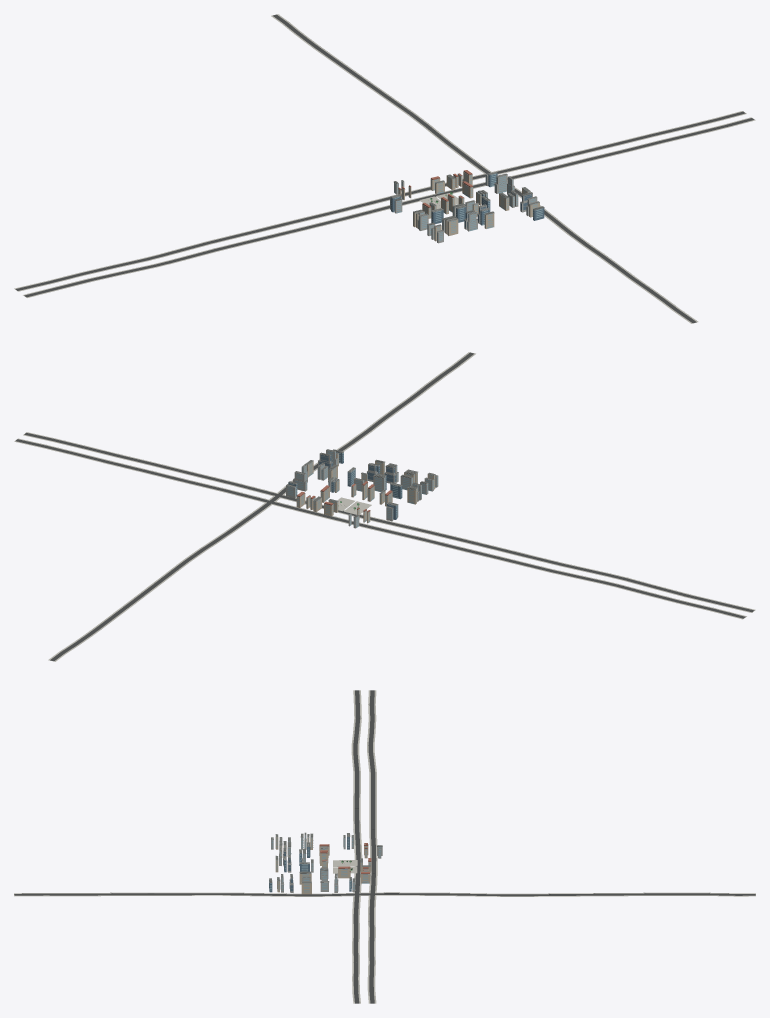
3 views of the same model, one above another, from view 1: azimuth 30°, elevation 25°; view 2: azimuth 150°, elevation 25°; view 3: azimuth 270°, elevation 25° (orthographic). The views are drawn at different scales.
Parts seen in each view (by area): view 1: road-h-15-mesh-3, road-h-16-mesh-4, road-h-16-mesh-5, road-h-15-mesh-2, road-v-21-mesh-1, road-v-21-mesh-0; view 2: road-h-16-mesh-5, road-h-16-mesh-4, road-h-15-mesh-3, road-h-15-mesh-2, road-v-21-mesh-1, road-v-21-mesh-0; view 3: road-v-21-mesh-0, road-v-21-mesh-1, road-h-15-mesh-3, road-h-16-mesh-5, road-h-16-mesh-4, road-h-15-mesh-2.
Boxes of the visible parts, x1,y1,x2,y2 form: road-h-15-mesh-3: [24, 118, 754, 297]; road-h-16-mesh-4: [14, 111, 746, 291]; road-h-16-mesh-5: [15, 111, 745, 290]; road-h-15-mesh-2: [23, 117, 755, 297]; road-v-21-mesh-1: [273, 14, 696, 323]; road-v-21-mesh-0: [271, 14, 698, 323]; road-h-16-mesh-5: [16, 439, 745, 618]; road-h-16-mesh-4: [14, 438, 746, 619]; road-h-15-mesh-3: [24, 433, 754, 612]; road-h-15-mesh-2: [23, 432, 755, 612]; road-v-21-mesh-1: [50, 352, 474, 661]; road-v-21-mesh-0: [48, 352, 475, 661]; road-v-21-mesh-0: [14, 892, 755, 896]; road-v-21-mesh-1: [14, 893, 755, 896]; road-h-15-mesh-3: [353, 690, 360, 1003]; road-h-16-mesh-5: [368, 690, 376, 1003]; road-h-16-mesh-4: [367, 690, 377, 1003]; road-h-15-mesh-2: [351, 690, 362, 1003].
Bounding box in the file's own units: 1604 × 38.38 × 1604.
